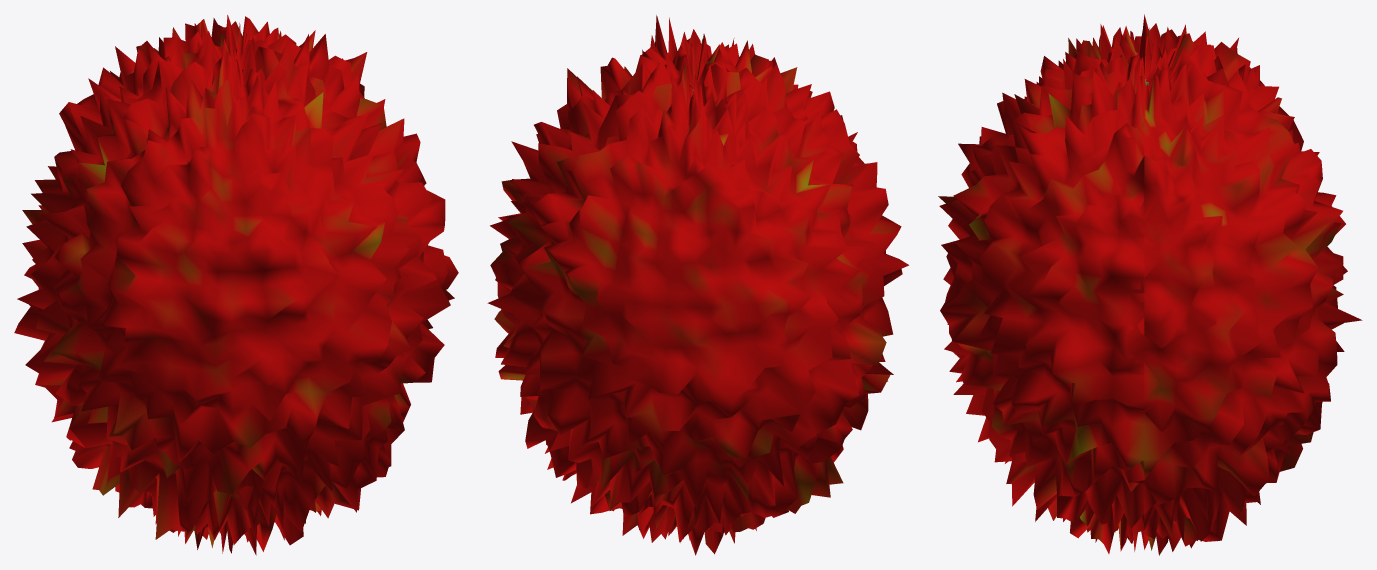
The model's file is ramboutan.glb.
3 renders of one model, left to right at view 1: azimuth 30°, elevation 25°; view 2: azimuth 150°, elevation 25°; view 3: azimuth 270°, elevation 25°, orthographic. The views are drawn at different scales.
Parts seen in each view (by area): view 1: entier_peau, moitie_B_peau, moitie_A_peau; view 2: moitie_A_peau, entier_peau, moitie_B_peau; view 3: entier_peau, moitie_A_peau, moitie_B_peau.
Boxes of the visible parts, <box> form: entier_peau: <box>14,15,458,553</box>; moitie_B_peau: <box>44,31,454,555</box>; moitie_A_peau: <box>20,15,364,532</box>; moitie_A_peau: <box>487,51,859,555</box>; entier_peau: <box>493,16,908,552</box>; moitie_B_peau: <box>536,15,907,496</box>; entier_peau: <box>939,14,1362,555</box>; moitie_A_peau: <box>1144,15,1347,551</box>; moitie_B_peau: <box>938,17,1144,551</box>.
Bounding box in the file's own units: 1.96 × 2.51 × 1.89.
